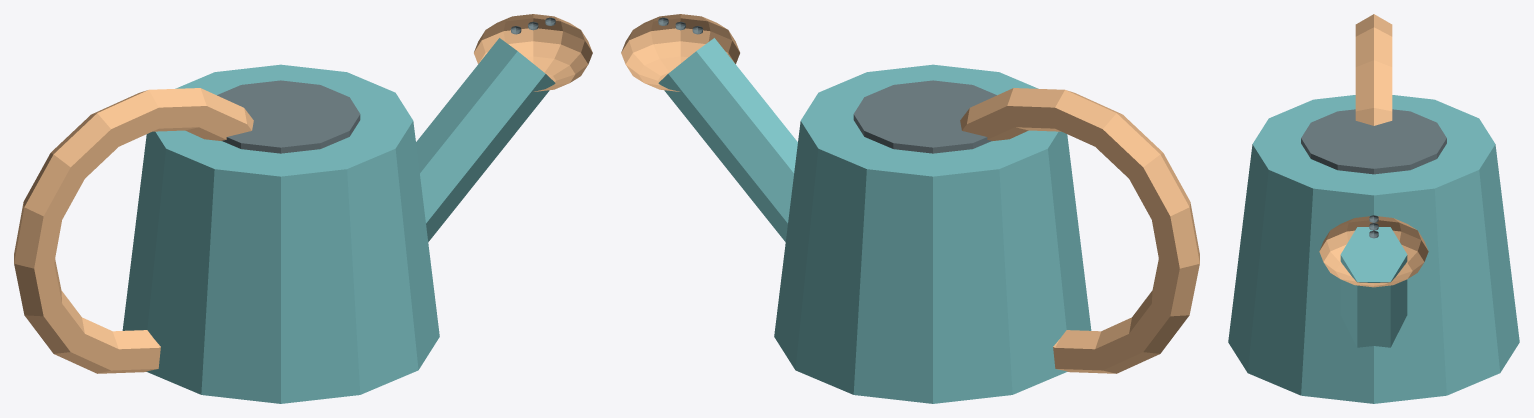
File: meadow-courier-garden-watering-can__43.glb
The picture shows the model from 3 angles, left to right: view 1: azimuth 30°, elevation 25°; view 2: azimuth 150°, elevation 25°; view 3: azimuth 270°, elevation 25°; orthographic projection. The views are drawn at different scales.
Visible parts, largest first — view 1: meadow-courier-watering-can; view 2: meadow-courier-watering-can; view 3: meadow-courier-watering-can.
Boxes of the visible parts, x1,y1,x2,y2 form: meadow-courier-watering-can: (14,14,592,403); meadow-courier-watering-can: (621,14,1199,403); meadow-courier-watering-can: (1228,14,1519,403).
Bounding box in the file's own units: 0.995 × 0.47 × 0.48.
